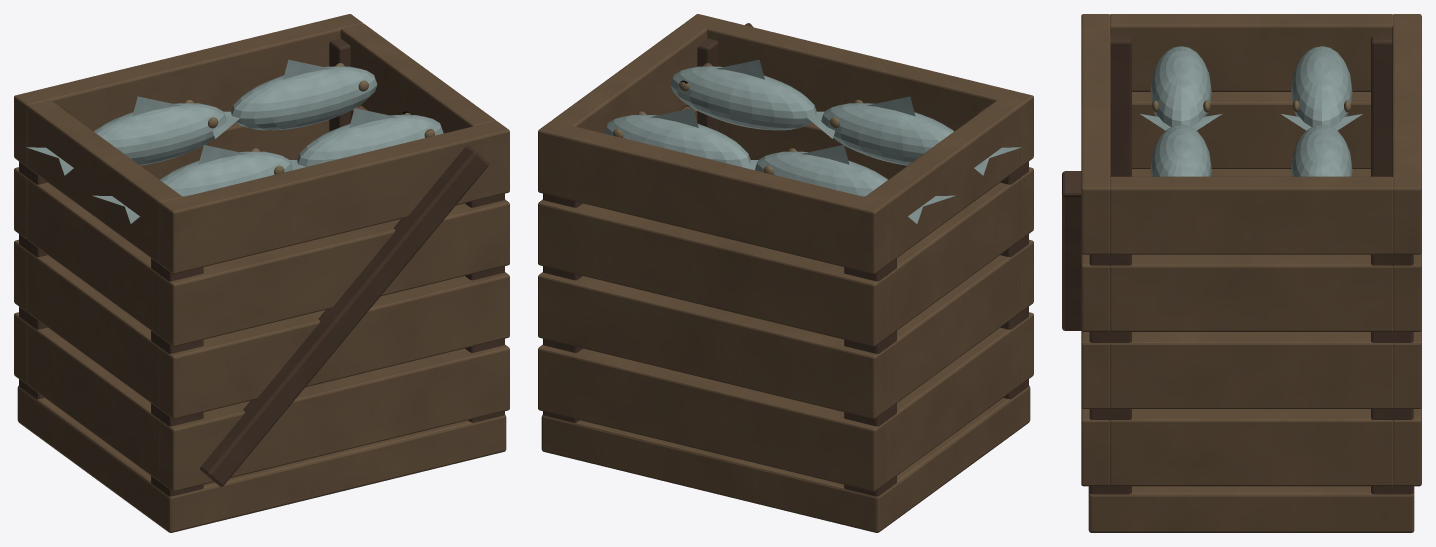
The model's file is Fish_Crate.fbx.
The picture shows the model from 3 angles, left to right: view 1: azimuth 30°, elevation 25°; view 2: azimuth 150°, elevation 25°; view 3: azimuth 270°, elevation 25°; orthographic projection. The views are drawn at different scales.
Parts seen in each view (by area): view 1: Fish_Crate.001; view 2: Fish_Crate.001; view 3: Fish_Crate.001.
Boxes of the visible parts, x1,y1,x2,y2 form: Fish_Crate.001: [14, 14, 509, 532]; Fish_Crate.001: [538, 14, 1033, 532]; Fish_Crate.001: [1062, 14, 1421, 532].
Bounding box in the file's own units: 1.17 × 1.07 × 0.9715.
